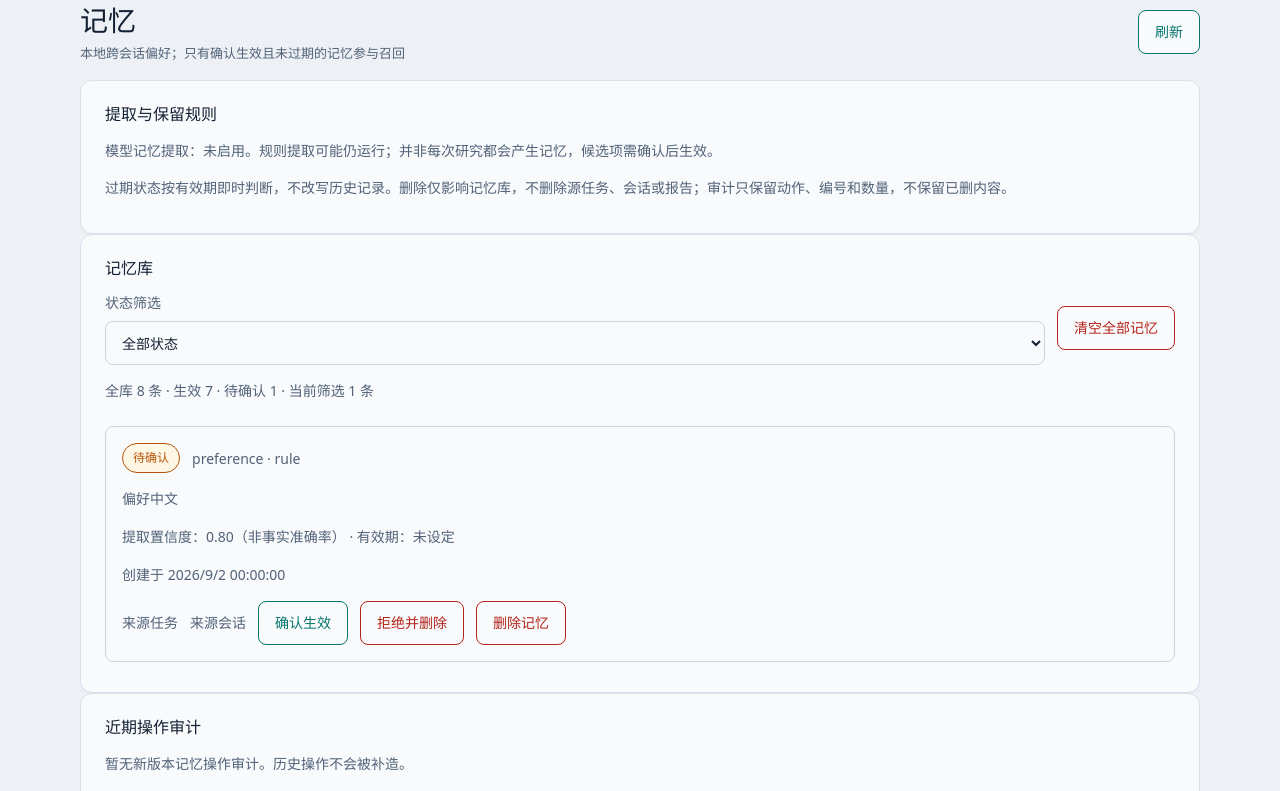
Test: requires typed confirmation to clear all statuses even when filtered
Check: the text "偏好中文" is shown, box top-left (122, 489), bottom-right (178, 508)
Select "待确认" in the dropdown labelled "状态筛选" at {"x": 575, "y": 343}, box top-left (105, 321), bottom-right (1045, 365)
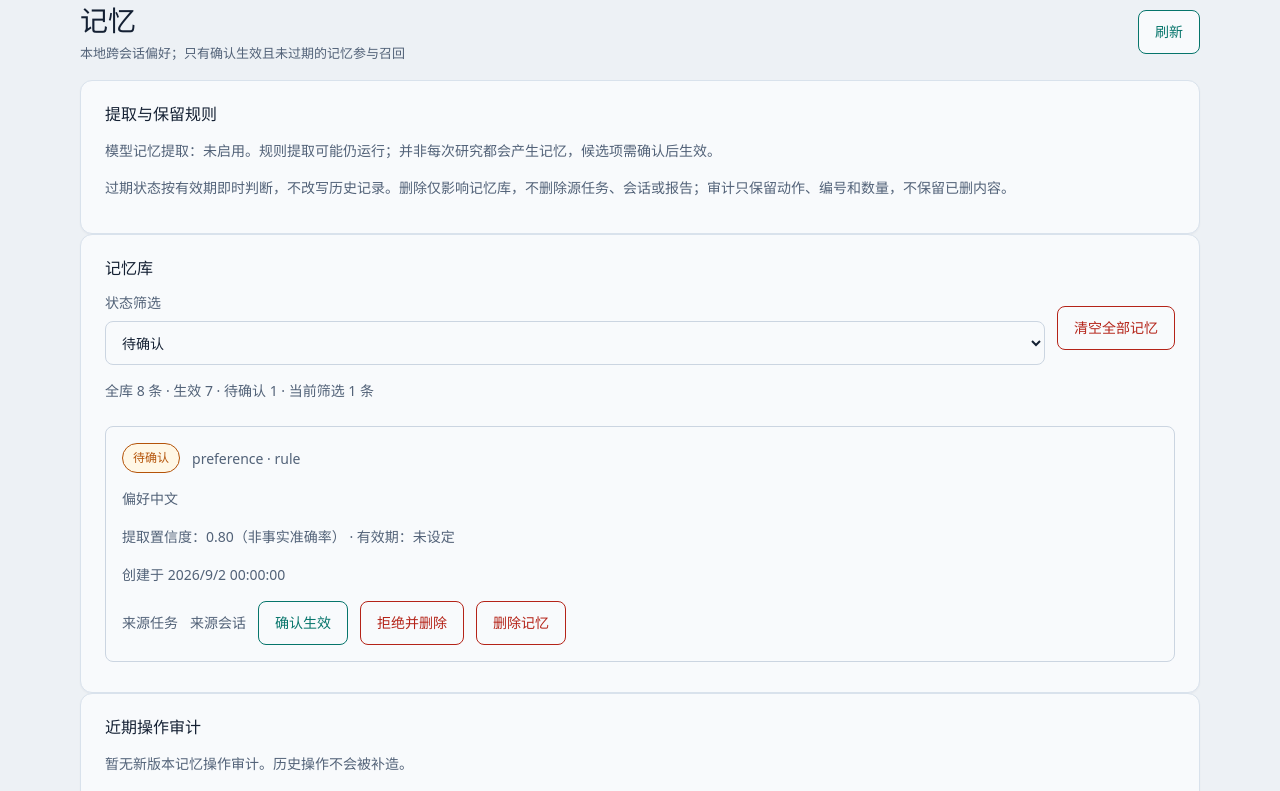
Check: the text "偏好中文" is shown, box top-left (122, 489), bottom-right (178, 508)
Click the button "清空全部记忆" at {"x": 1116, "y": 328}, box top-left (1057, 306), bottom-right (1175, 350)
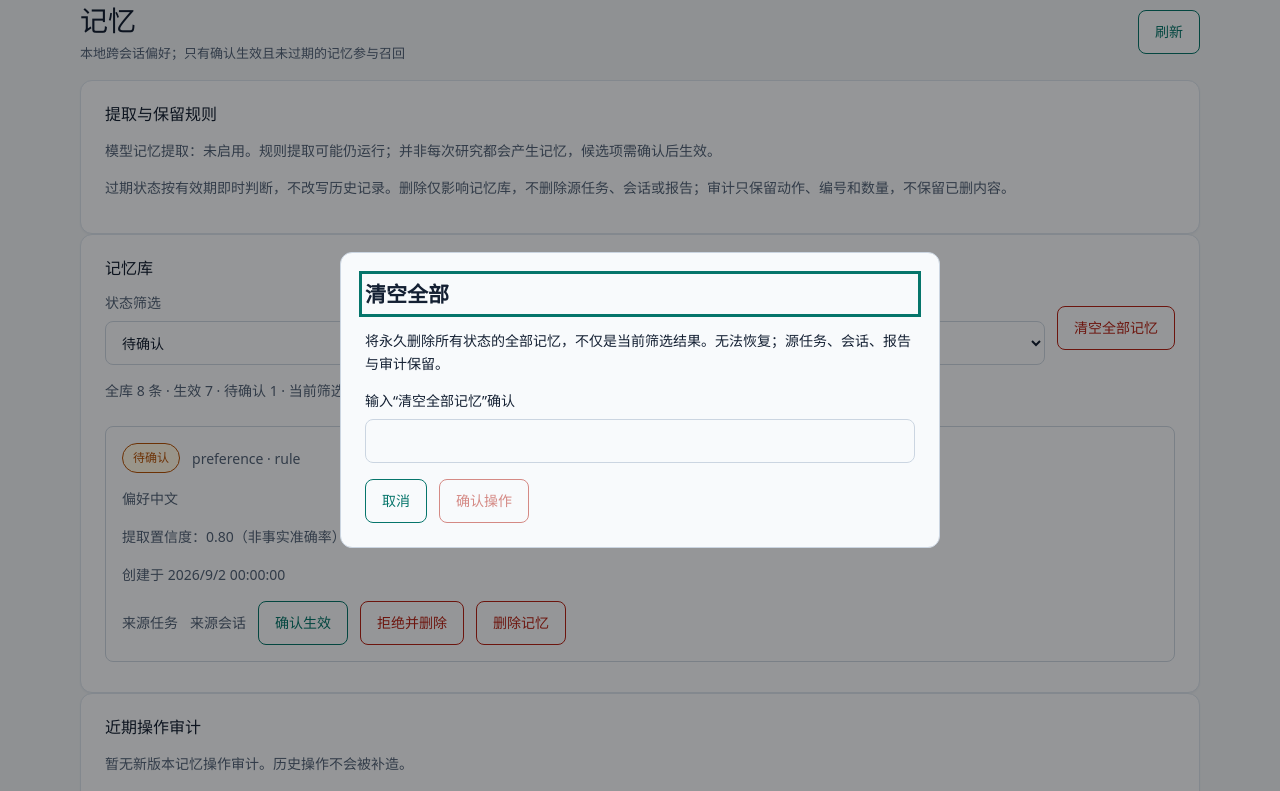
Check: the text "将永久删除所有状态的全部记忆，不仅是当前筛选结果。无法恢复；源任务、会话、报告与审计保留。" is shown, box top-left (365, 329), bottom-right (915, 375)
Check: the button "确认操作" is disabled, box top-left (439, 479), bottom-right (529, 523)
Type "清空全部记忆" into the field at {"x": 640, "y": 441}, box top-left (365, 419), bottom-right (915, 463)
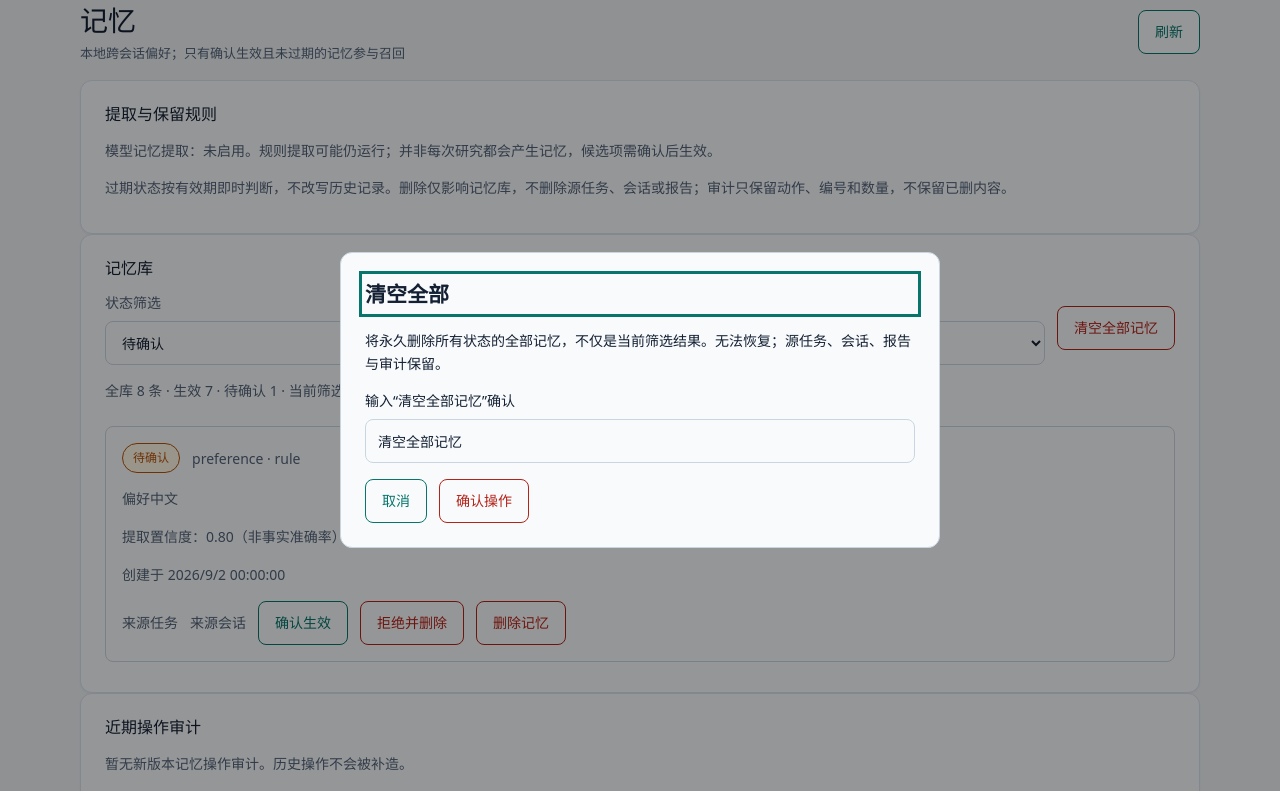
Click the button "确认操作" at {"x": 484, "y": 501}, box top-left (439, 479), bottom-right (529, 523)
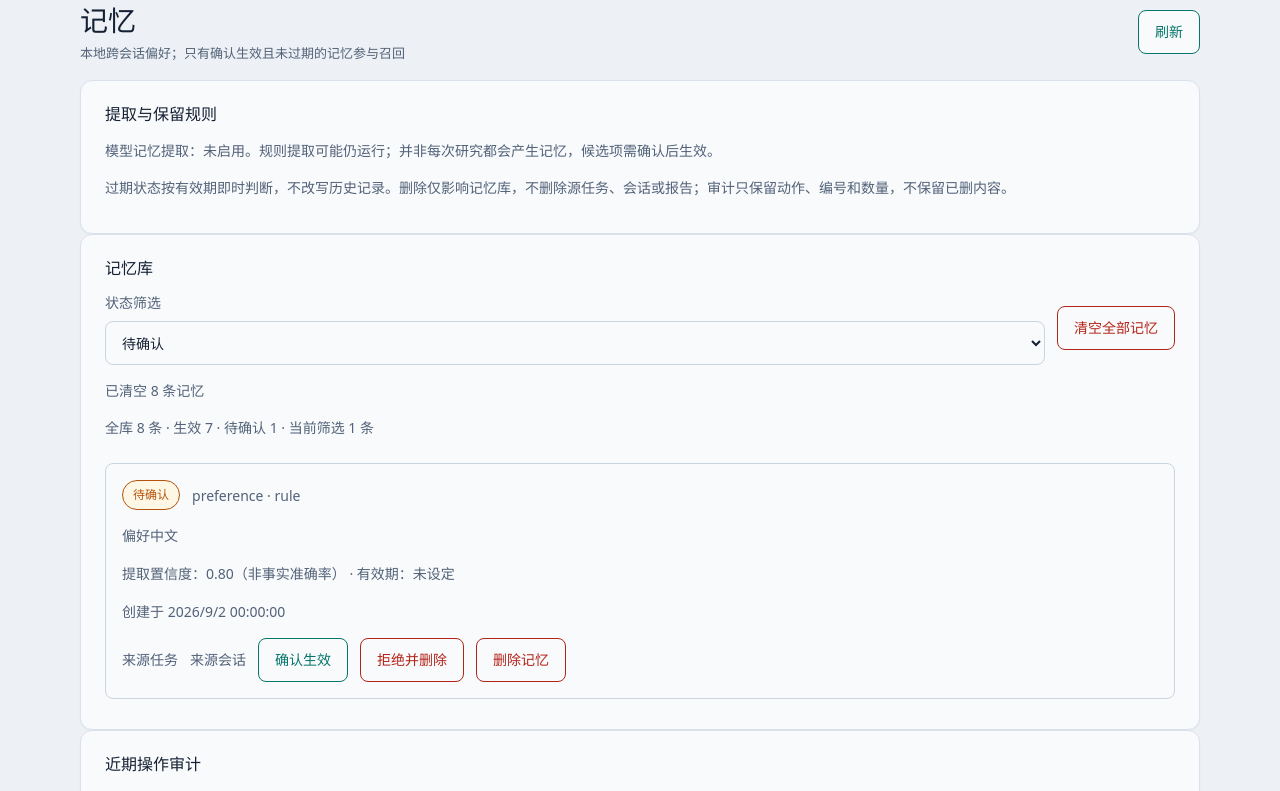
Check: the text "已清空 8 条记忆" is shown, box top-left (105, 381), bottom-right (204, 400)
